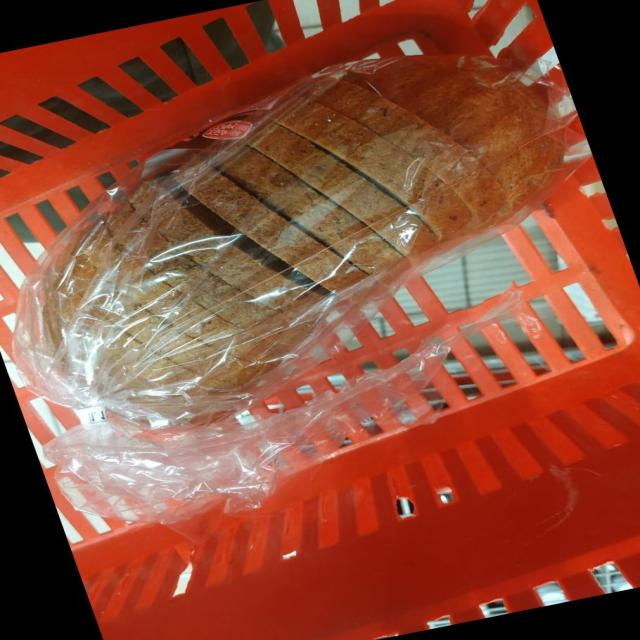Bread: (30, 57, 566, 426)
